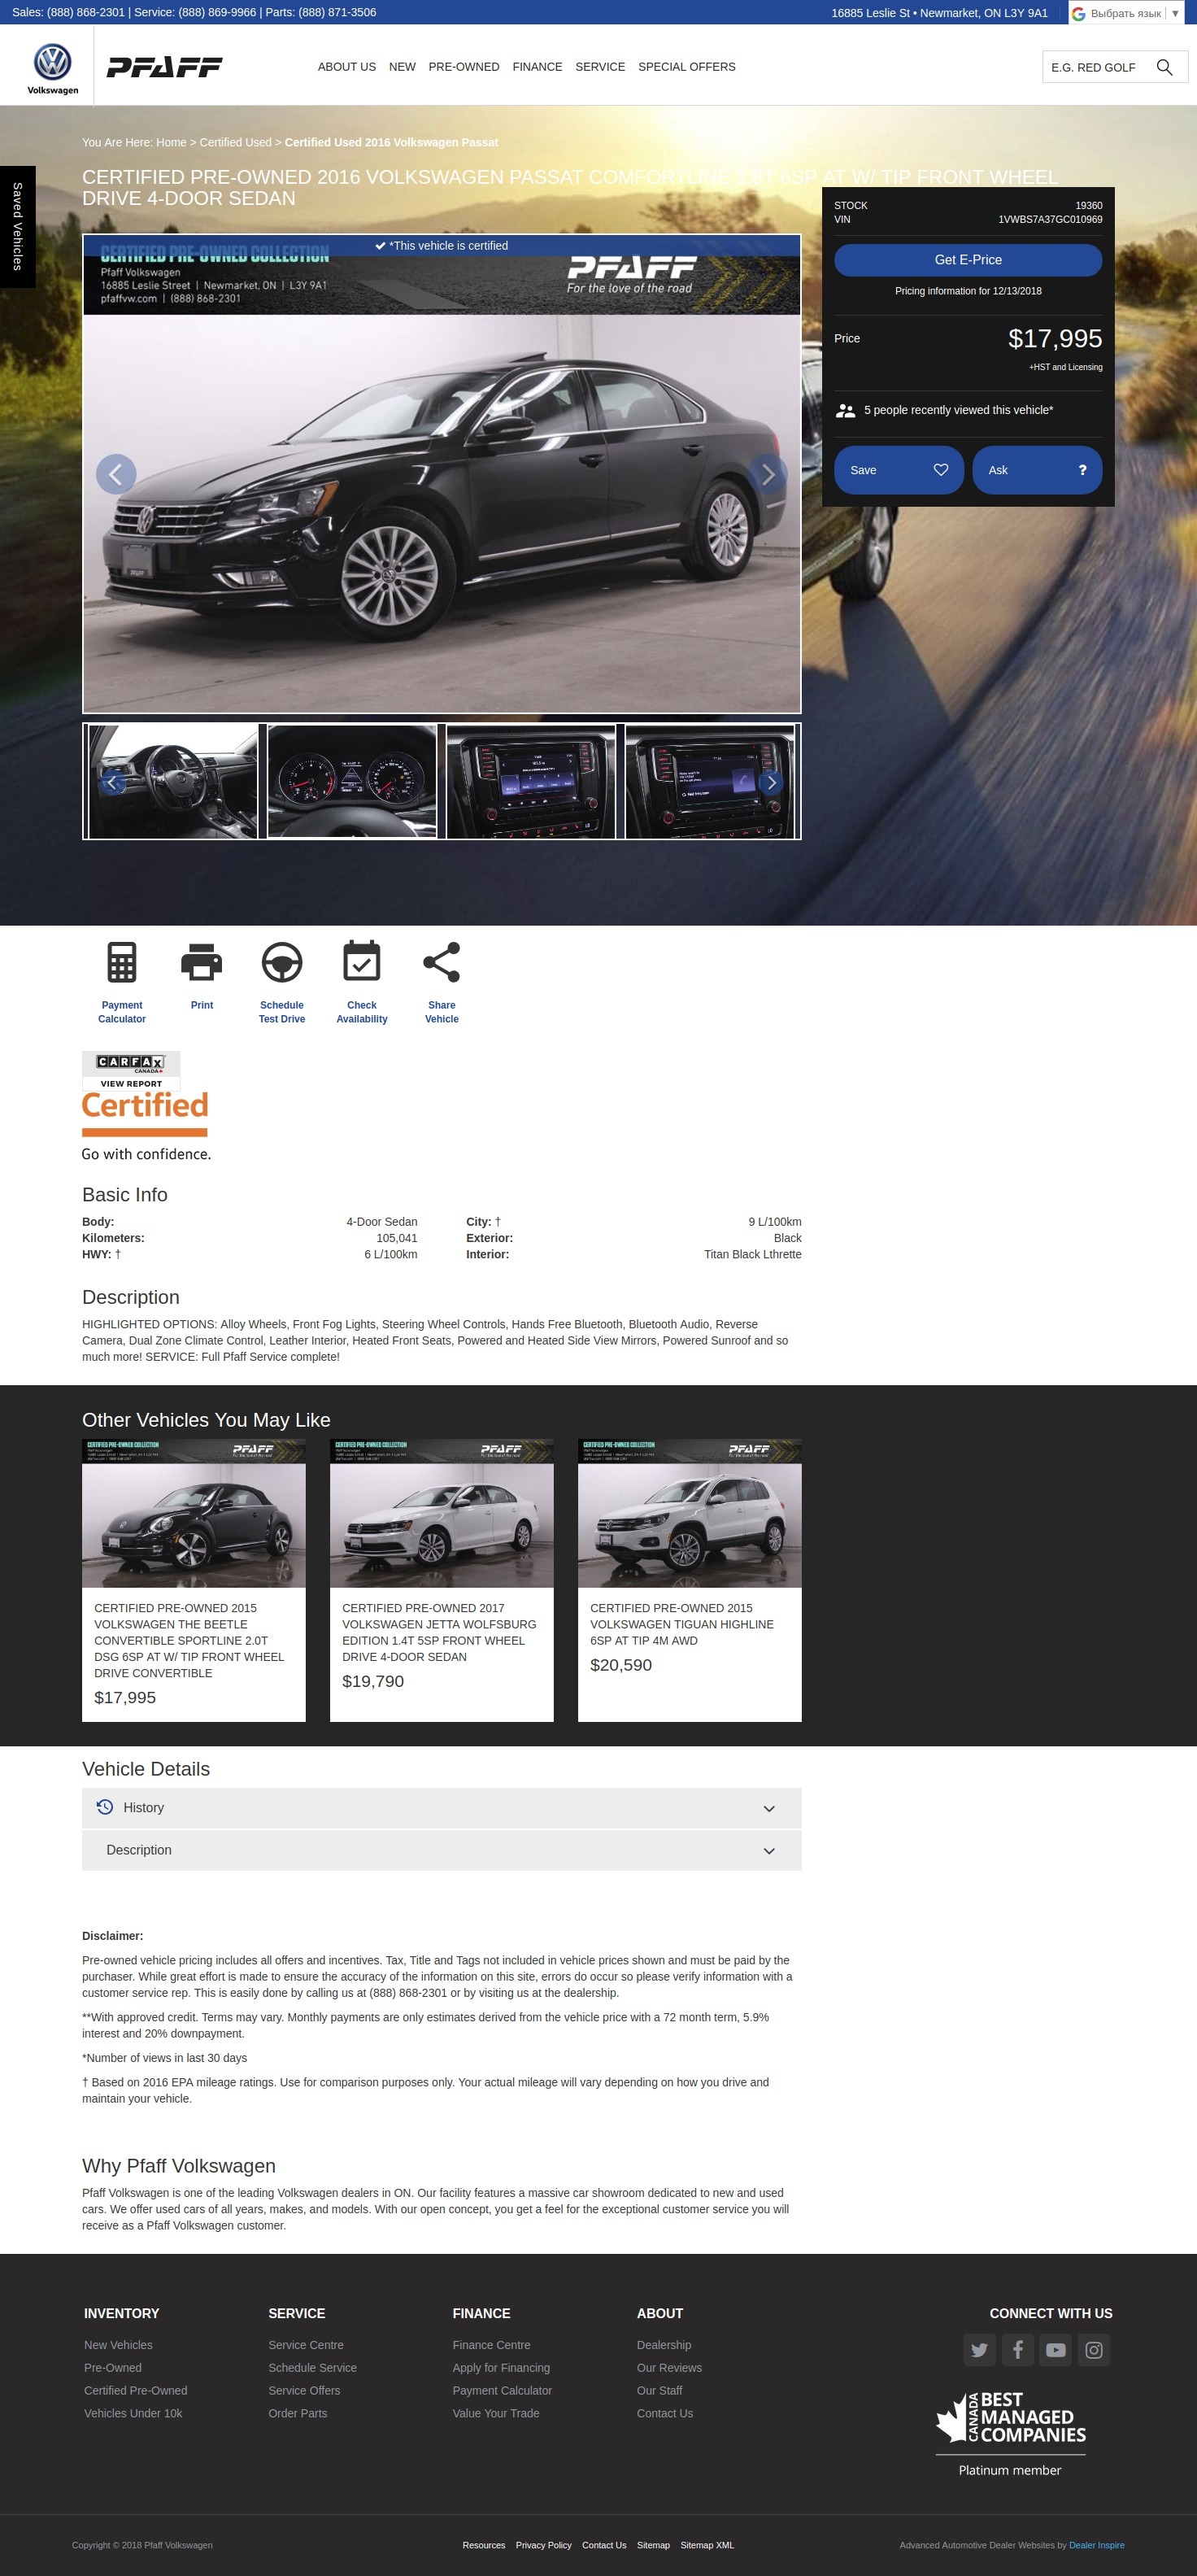car: (768, 777, 777, 790)
